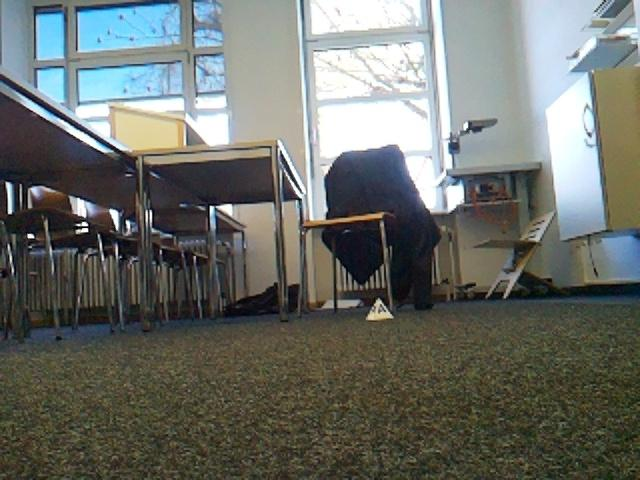A: (366, 298, 393, 320)
